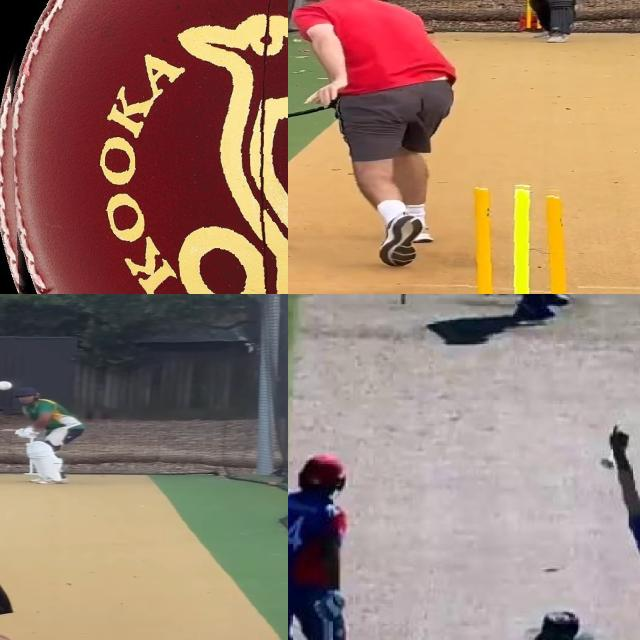Cricket ball: (0, 0, 288, 294), (0, 377, 18, 392), (600, 454, 615, 472)
Stumps: (456, 181, 577, 294)
